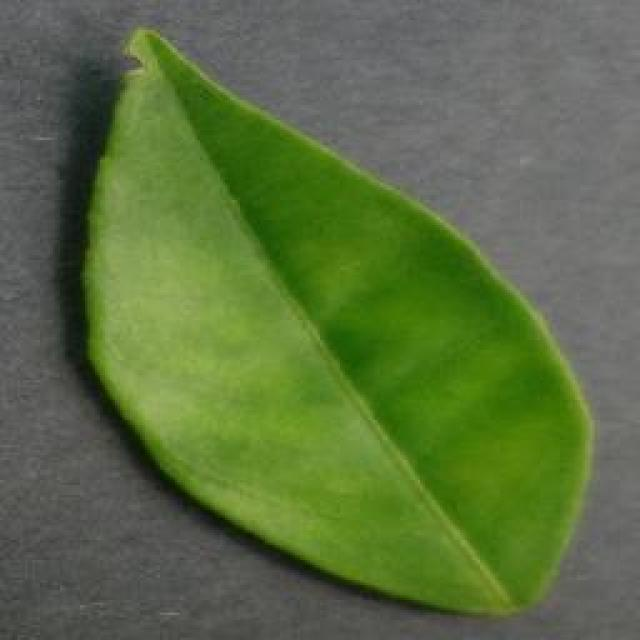Orange_Haunglongbing_Citrus_greening: (126, 144, 545, 531)
